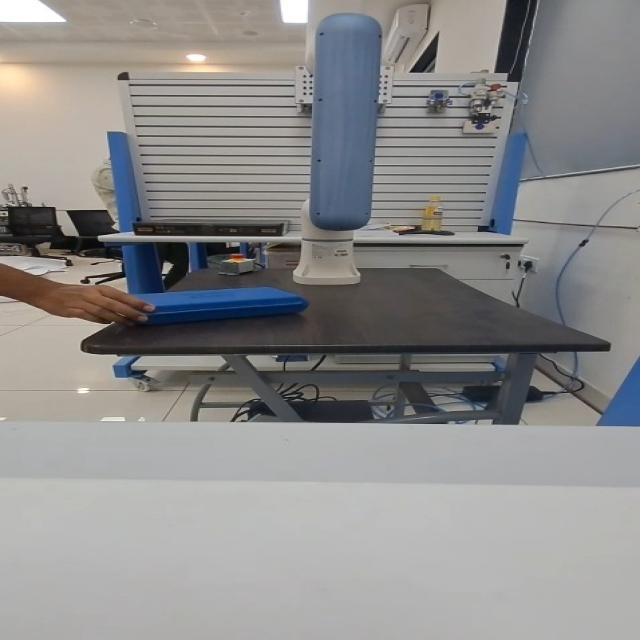top-surface: (128, 288, 283, 303)
